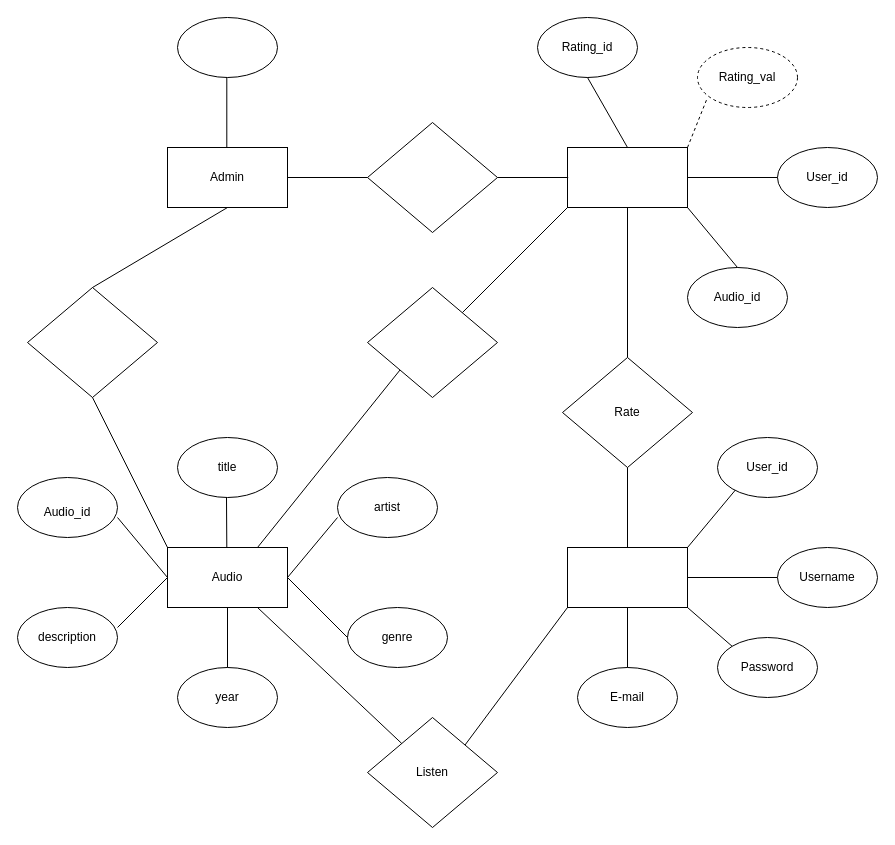
This 895x845 diagram has some shape labels left out. The shapes that lost their labels are listed below. From the top down, each one's centre as x and y in pixels, then its label:
At point 227,47: "Admin_id".
At point 432,177: "View".
At point 627,177: "Rating".
At point 92,342: "Operations".
At point 432,342: "Has".
At point 627,577: "User".
